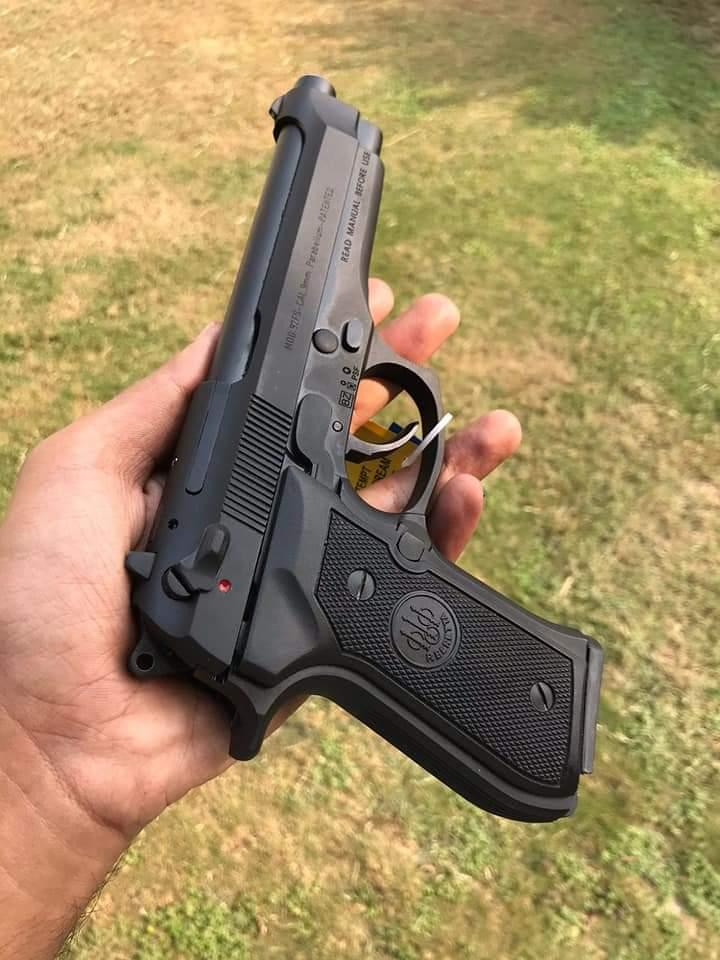weapon: (124, 74, 602, 823)
